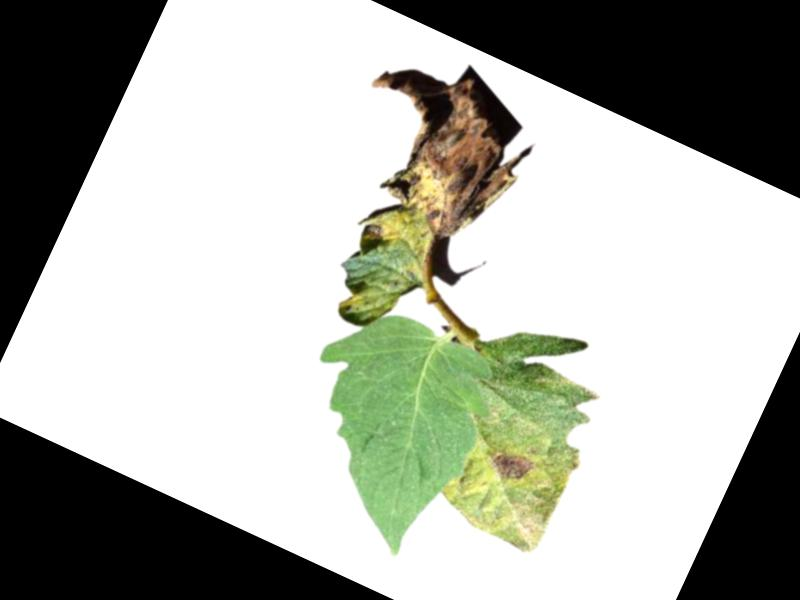Early_blight: (306, 38, 549, 287), (485, 445, 537, 491)
healthy: (253, 289, 510, 569)
